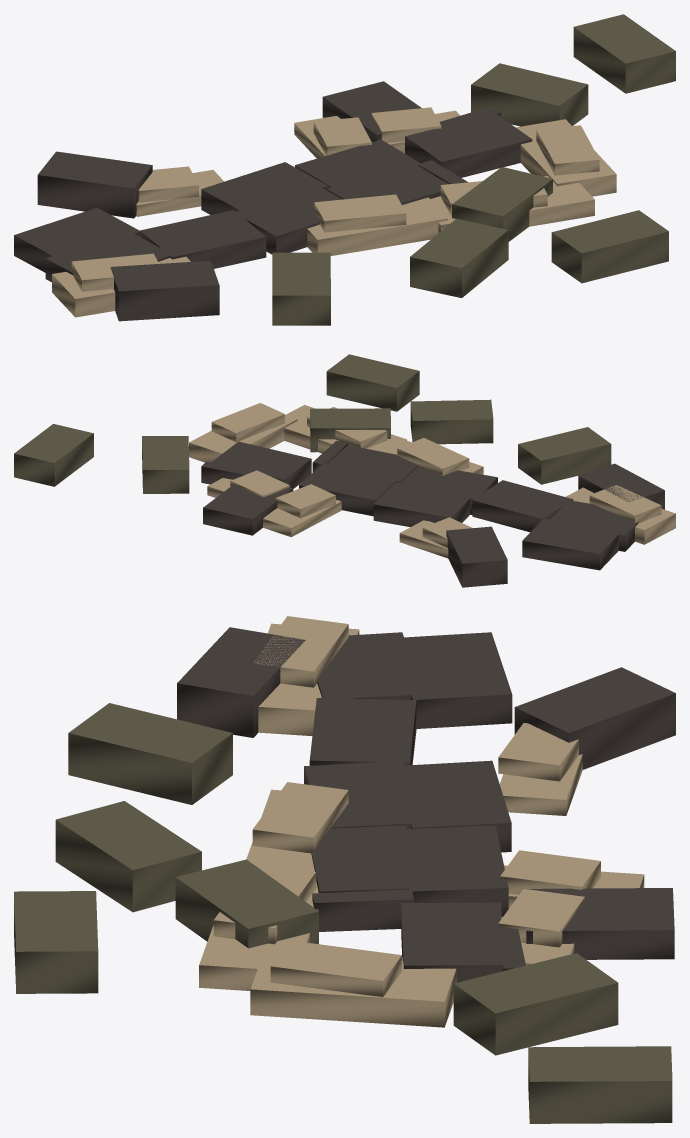
Rendered from SM_SacosRemateEspejo_v1_Talud_e3_Brecha_LOD1.fbx.
The picture shows the model from 3 angles, top to bottom: view 1: azimuth 30°, elevation 25°; view 2: azimuth 150°, elevation 25°; view 3: azimuth 270°, elevation 25°; orthographic projection. The views are drawn at different scales.
Visible parts, largest first — view 1: SM_sacos_piezas_v27_LOD1; view 2: SM_sacos_piezas_v27_LOD1; view 3: SM_sacos_piezas_v27_LOD1.
Boxes of the visible parts, x1=… form: SM_sacos_piezas_v27_LOD1: x1=14, y1=14, x2=675, y2=325; SM_sacos_piezas_v27_LOD1: x1=14, y1=354, x2=675, y2=587; SM_sacos_piezas_v27_LOD1: x1=14, y1=616, x2=675, y2=1123.
Size of the model in its own units: 6.29 by 0.26 by 3.71.
